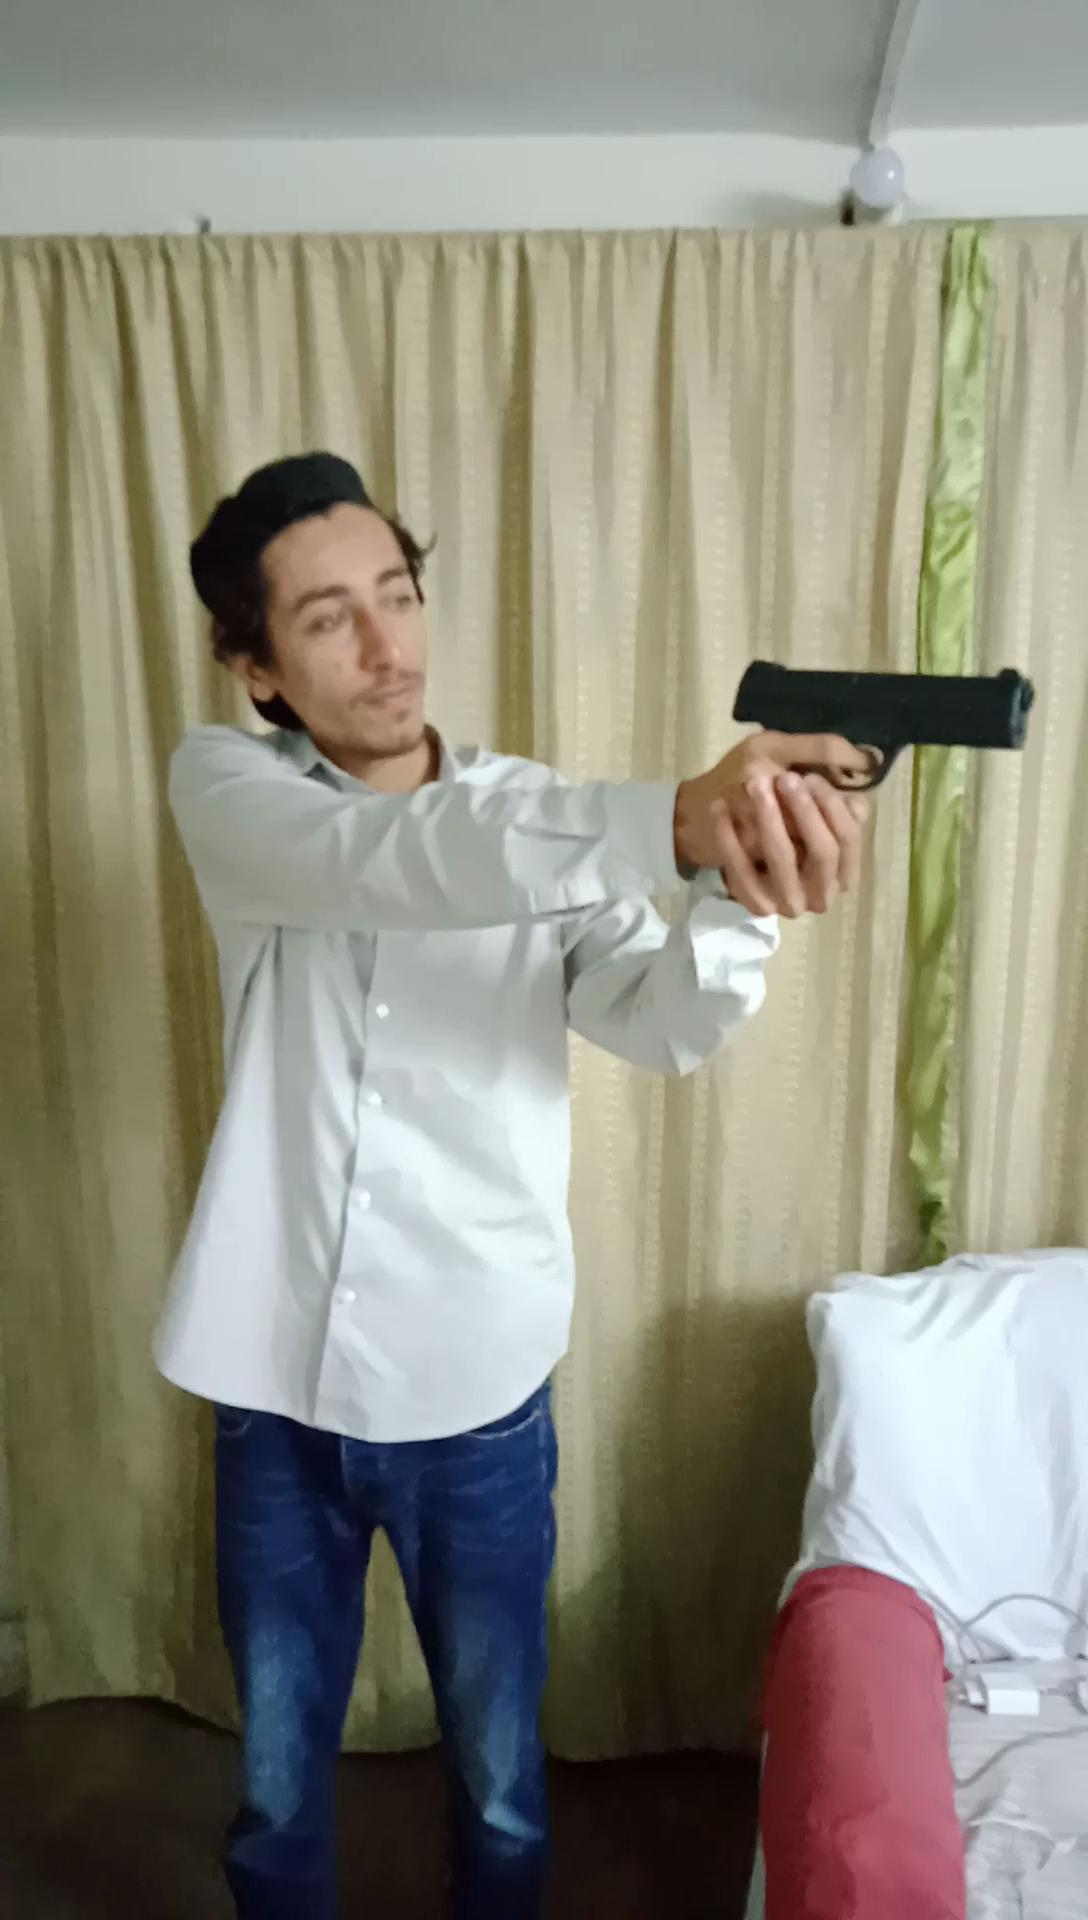criminal: (150, 446, 1067, 1920)
weapon: (715, 651, 1056, 824)
